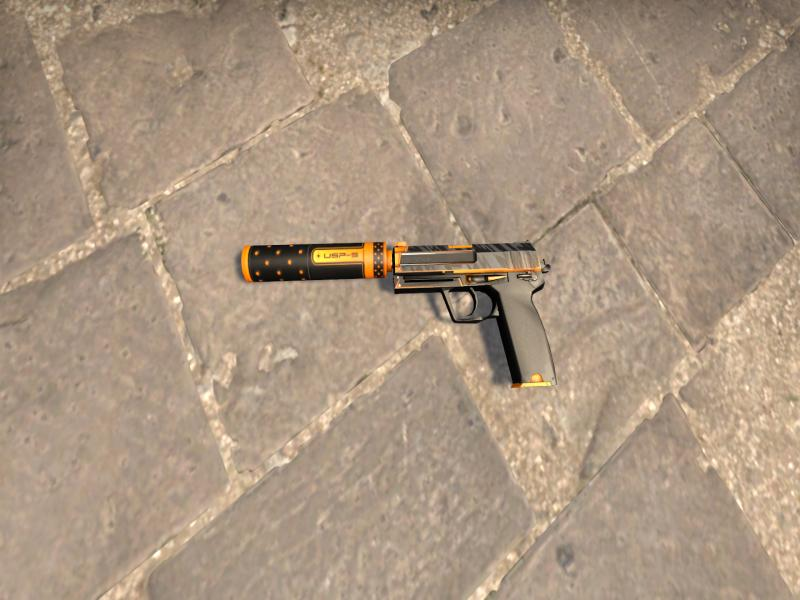USP: (240, 242, 557, 388)
